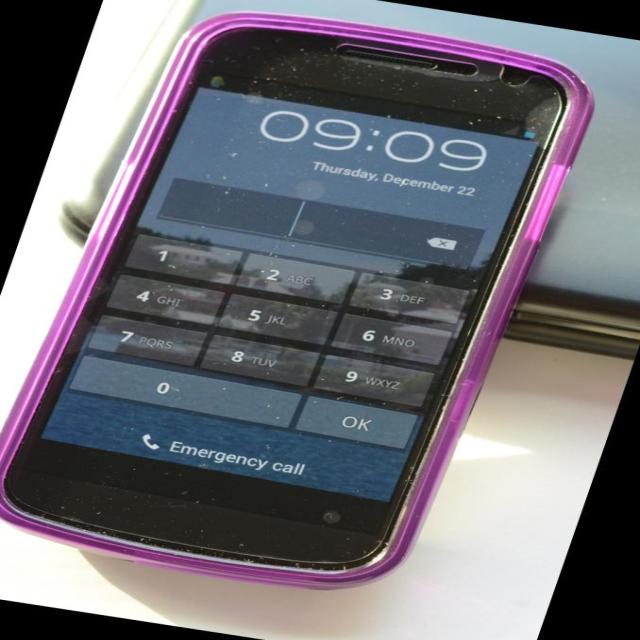handphone: (0, 13, 569, 585)
